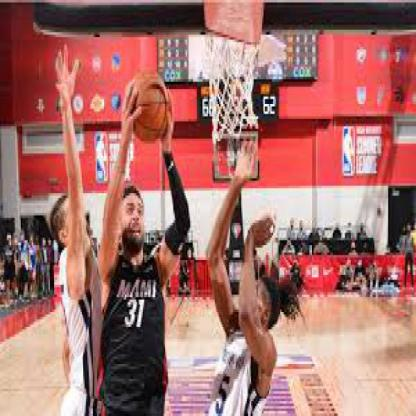basketball: (127, 72, 168, 144)
